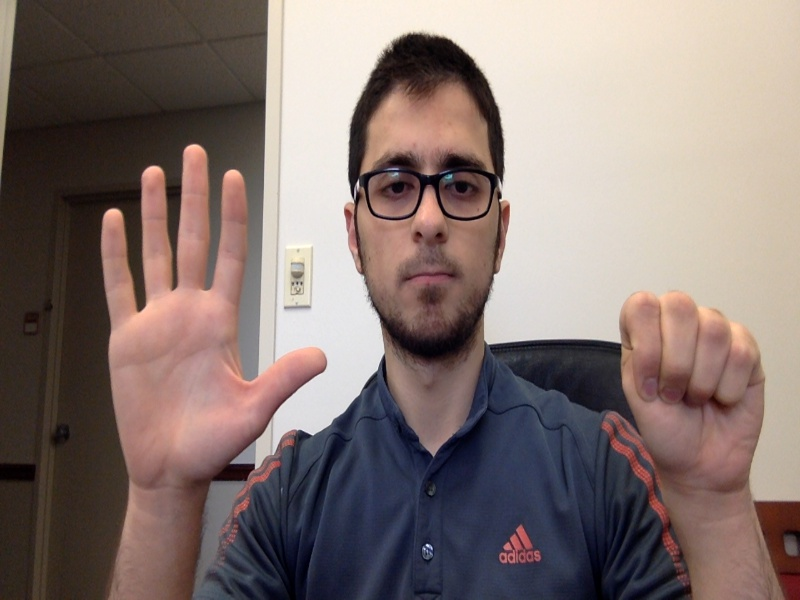0-hand: (620, 292, 765, 492)
5-hand: (103, 144, 326, 484)
